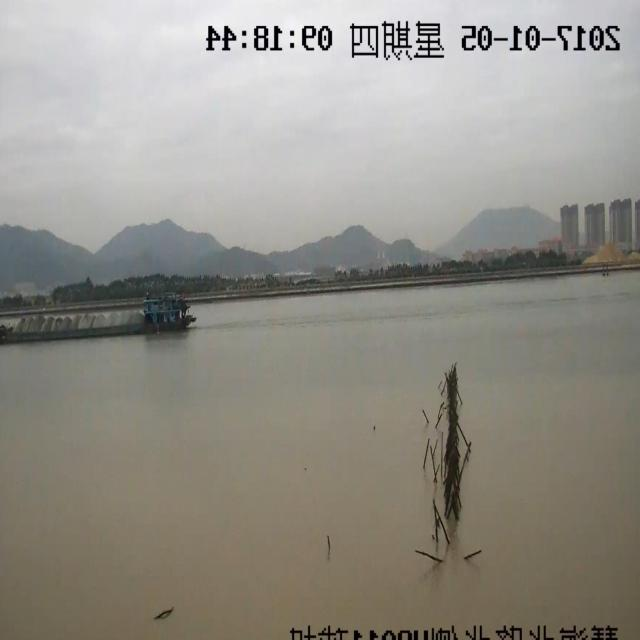cargoship: (0, 260, 196, 351)
